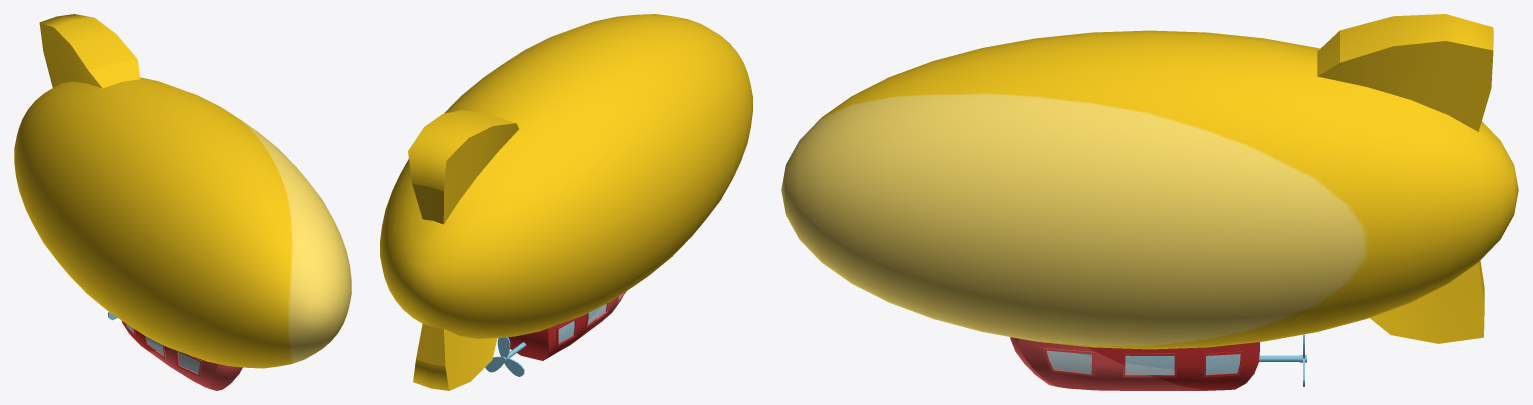
The model's file is zeppelin.fbx.
3 views of the same model, side by side, from view 1: azimuth 30°, elevation 25°; view 2: azimuth 150°, elevation 25°; view 3: azimuth 270°, elevation 25° (orthographic). The views are drawn at different scales.
Parts seen in each view (by area): view 1: models_f19:models_f18:models_f17:models_f16:models_f15:model; view 2: models_f19:models_f18:models_f17:models_f16:models_f15:model; view 3: models_f19:models_f18:models_f17:models_f16:models_f15:model.
Part boxes in pixels (box(x1,y1,x2,y2)): models_f19:models_f18:models_f17:models_f16:models_f15:model: box(14, 14, 351, 390); models_f19:models_f18:models_f17:models_f16:models_f15:model: box(380, 14, 752, 390); models_f19:models_f18:models_f17:models_f16:models_f15:model: box(781, 14, 1518, 390).
Bounding box in the file's own units: 12.62 × 15.73 × 29.34.
